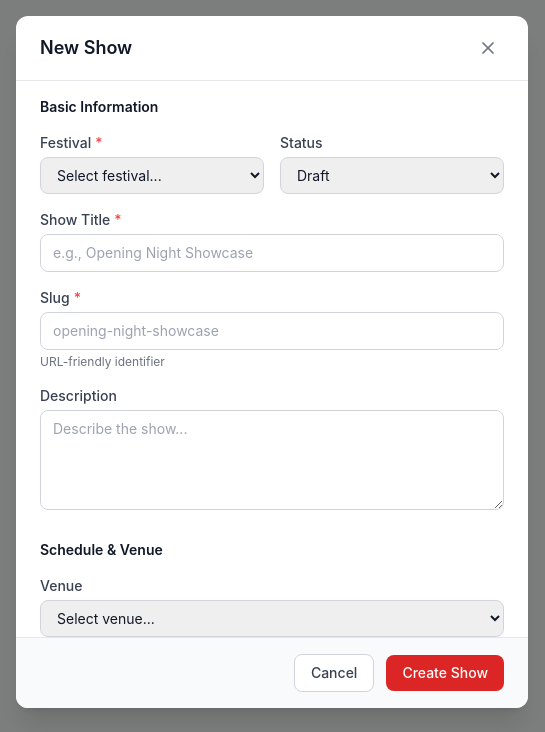
it: ShowForm › form validation › requires title field
Click the button "Create Show" at (445, 673), box [386, 655, 504, 691]
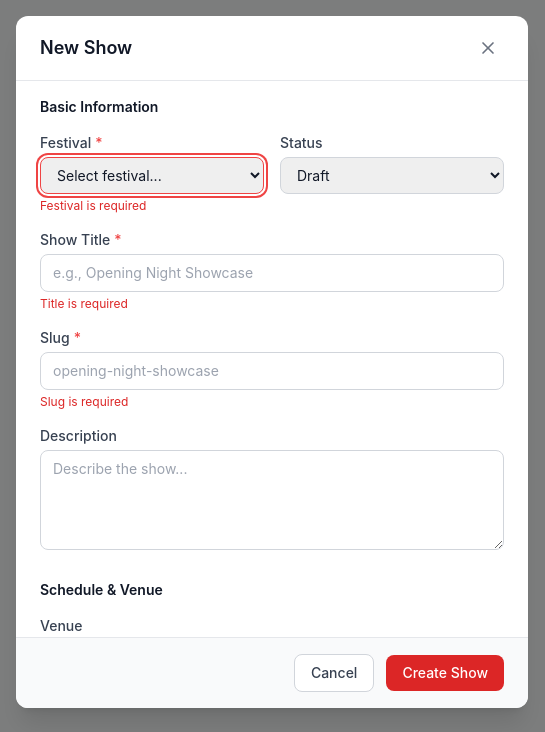
Result: the text "Title is required" is shown at [40, 296, 128, 311]
